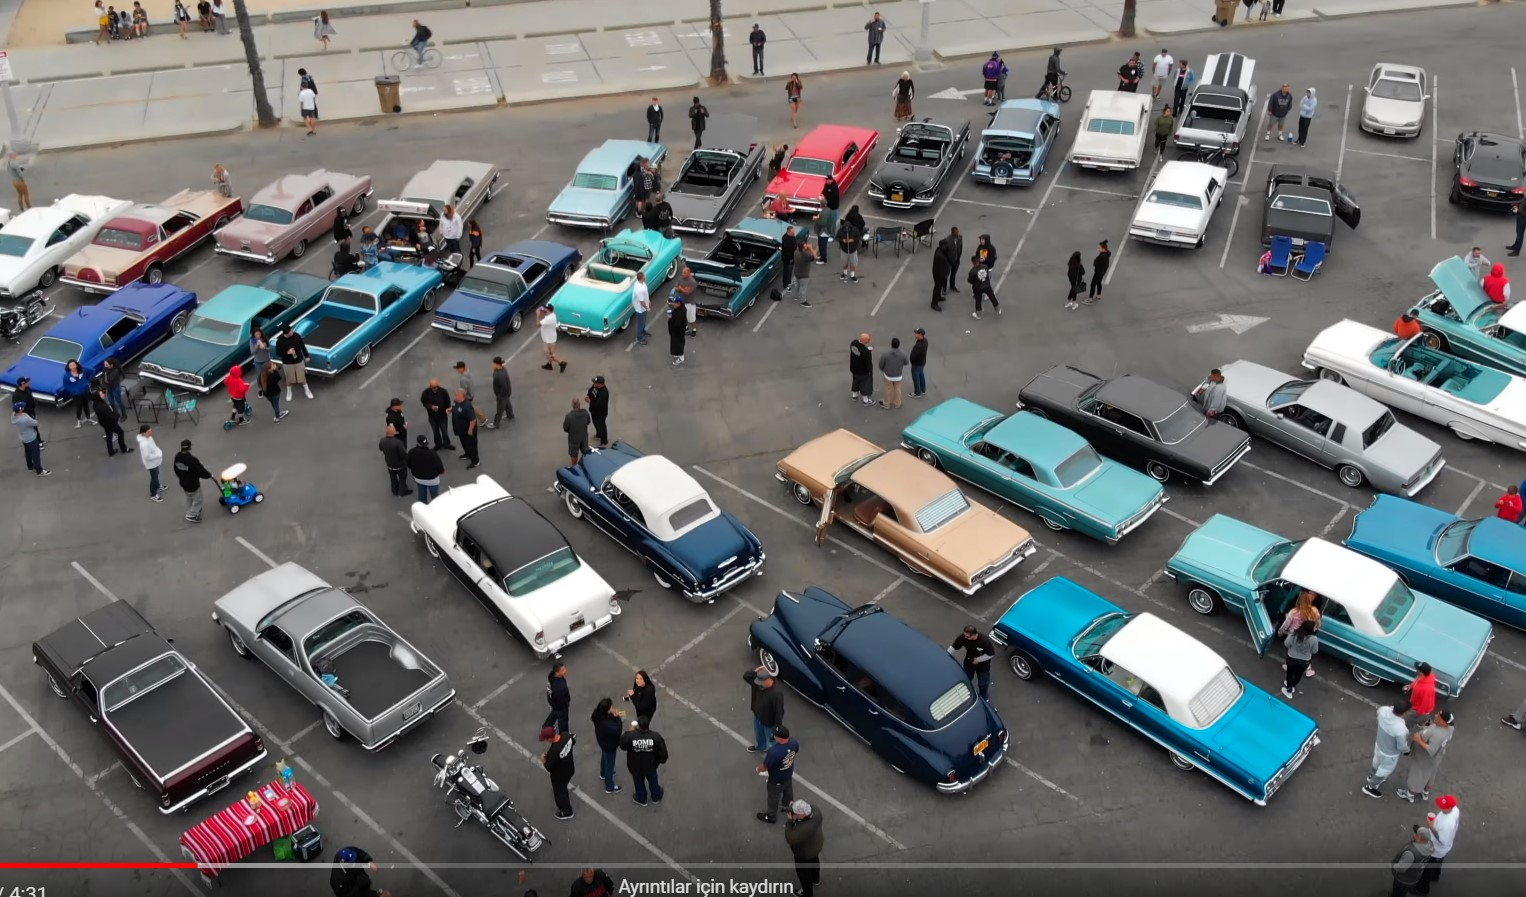araba: (978, 576, 1324, 806), (1157, 506, 1491, 699), (754, 577, 1010, 793), (33, 598, 264, 816), (206, 561, 458, 751), (412, 473, 629, 674), (774, 427, 1026, 595), (899, 389, 1168, 538), (542, 438, 767, 607), (996, 349, 1255, 496), (1281, 313, 1526, 458), (1186, 351, 1452, 483), (1, 275, 203, 437), (141, 266, 338, 403), (253, 256, 457, 388), (1341, 487, 1526, 617), (203, 157, 401, 269), (48, 185, 242, 298), (427, 230, 584, 356), (542, 219, 700, 340), (671, 221, 834, 337), (354, 153, 515, 255), (541, 129, 665, 237), (766, 107, 876, 220), (1261, 154, 1356, 262), (1134, 153, 1223, 265), (1173, 46, 1261, 156), (972, 91, 1071, 188), (1349, 48, 1436, 156), (664, 141, 762, 236), (1070, 77, 1156, 175), (1439, 121, 1526, 218), (870, 117, 958, 207)
insan: (1390, 793, 1466, 897), (624, 710, 687, 811), (1273, 587, 1324, 699), (534, 721, 587, 821), (757, 728, 808, 831), (581, 692, 628, 798), (1364, 700, 1409, 806), (782, 795, 828, 897), (541, 649, 584, 758), (1414, 706, 1454, 812), (621, 663, 671, 750), (1387, 653, 1435, 739), (273, 328, 324, 409), (130, 415, 176, 504), (743, 661, 786, 755), (923, 224, 967, 313), (443, 380, 484, 477), (168, 435, 212, 520), (11, 399, 55, 483), (390, 15, 447, 79), (91, 389, 142, 457), (966, 252, 1011, 329), (583, 372, 618, 469), (220, 357, 261, 438), (532, 296, 572, 377), (485, 353, 525, 433), (563, 392, 598, 483), (407, 427, 443, 512), (376, 422, 415, 499), (1152, 37, 1191, 115), (61, 353, 101, 426), (255, 358, 291, 438), (1, 150, 40, 221), (1040, 41, 1082, 105), (1479, 247, 1515, 312), (1260, 78, 1290, 157), (846, 332, 877, 408), (423, 375, 453, 453), (1493, 479, 1526, 549), (1194, 361, 1229, 426), (974, 42, 1009, 107), (1294, 81, 1324, 157), (878, 333, 905, 415), (439, 201, 471, 266), (887, 64, 917, 132), (380, 397, 409, 468), (674, 262, 700, 337), (861, 3, 891, 70), (1087, 234, 1114, 309), (1114, 39, 1145, 104), (909, 322, 933, 395), (838, 218, 863, 290), (779, 222, 802, 298), (798, 237, 820, 316), (1064, 248, 1090, 313), (303, 4, 340, 51), (684, 87, 710, 152), (408, 217, 441, 267), (1391, 300, 1421, 356), (462, 214, 490, 272), (781, 68, 808, 127), (666, 296, 689, 367), (1459, 236, 1488, 290), (633, 270, 654, 347), (745, 19, 771, 80), (201, 163, 236, 204), (814, 198, 833, 269), (295, 86, 319, 141), (642, 90, 666, 141), (764, 186, 798, 222), (331, 242, 365, 277), (332, 204, 354, 258), (92, 1, 115, 46), (295, 62, 323, 98), (171, 1, 194, 41), (130, 1, 152, 44), (822, 173, 843, 218), (358, 227, 380, 263), (215, 1, 234, 38)
